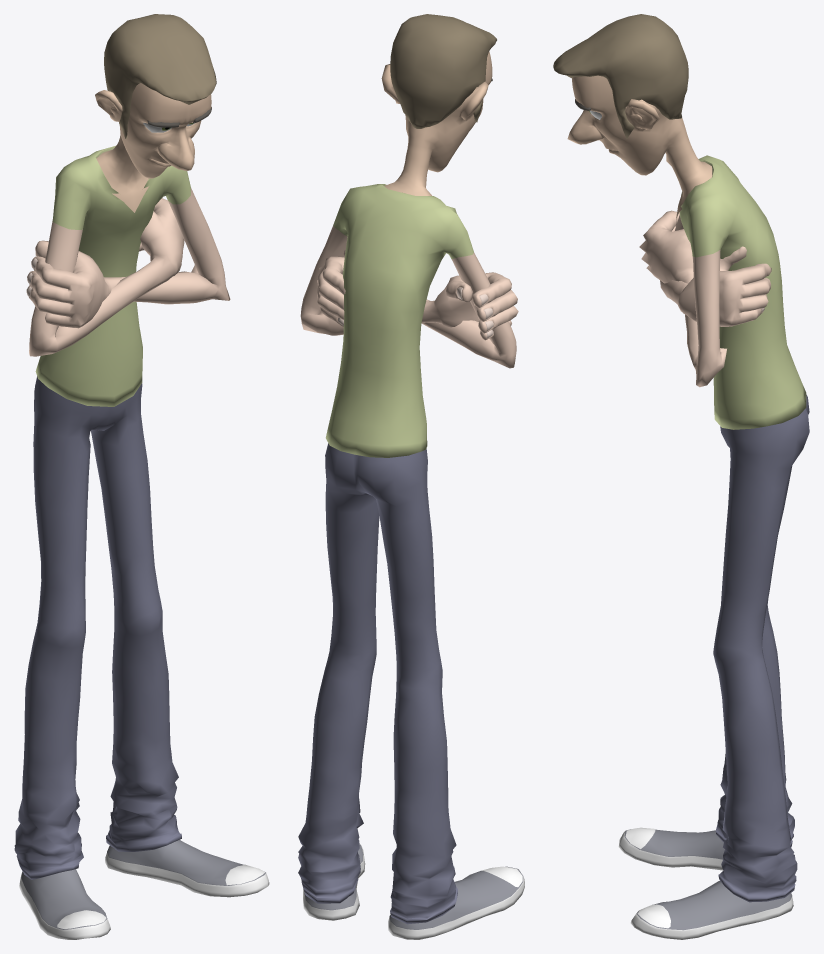
File: bad_end_pose.fbx
The picture shows the model from 3 angles, left to right: view 1: azimuth 30°, elevation 25°; view 2: azimuth 150°, elevation 25°; view 3: azimuth 270°, elevation 25°; orthographic projection. The views are drawn at different scales.
Parts seen in each view (by area): view 1: eyeBall1Lf; view 2: eyeBall1Lf; view 3: eyeBall1Lf.
Part boxes in pixels (x1,y1,x2,y2): eyeBall1Lf: (14, 14, 269, 939); eyeBall1Lf: (298, 14, 524, 939); eyeBall1Lf: (553, 14, 809, 939).
Bounding box in the file's own units: 2.23 × 8.61 × 2.32.
